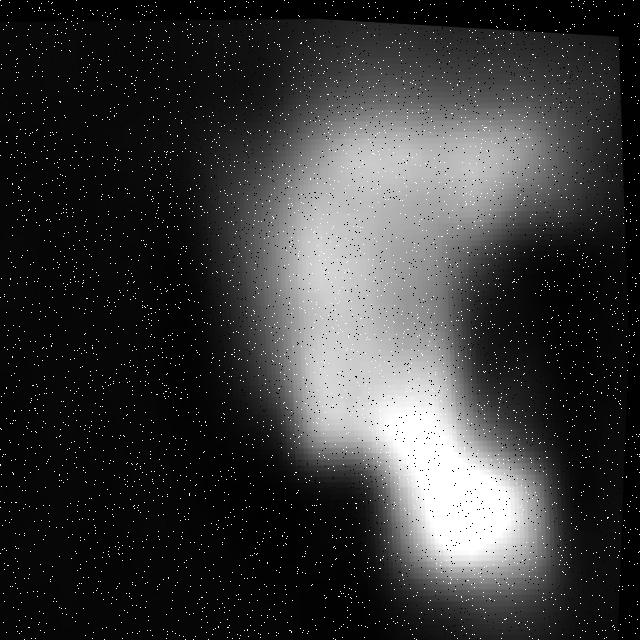person: (182, 58, 640, 640)
